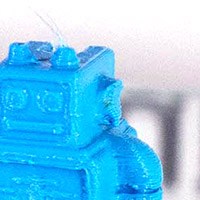3dpoverextrusion: (105, 90, 130, 128)
3dpstringing: (34, 9, 81, 55)
